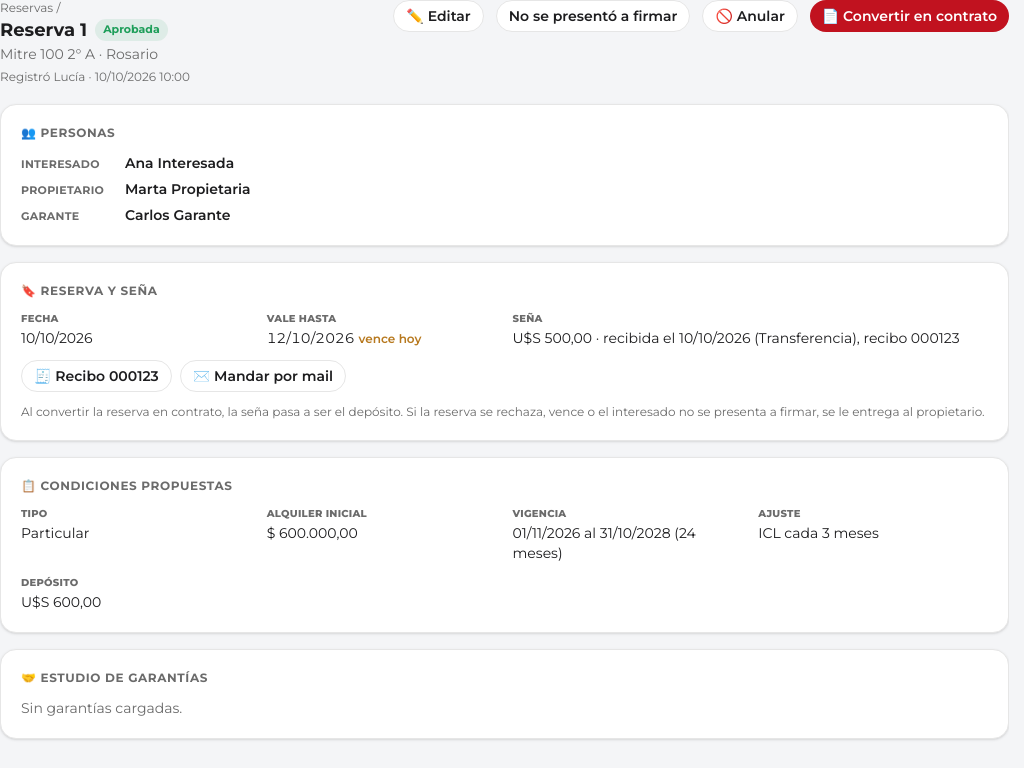
Scenario: La seña en la ficha (reglas 169 a 172) › regla 171: «No se presentó a firmar» avisa que la seña va al propietario
What coordinates should you click on to do the following:
click the button "No se presentó a firmar"
I would click on:
 (593, 16)
Its box is left=496, top=0, right=690, bottom=32.
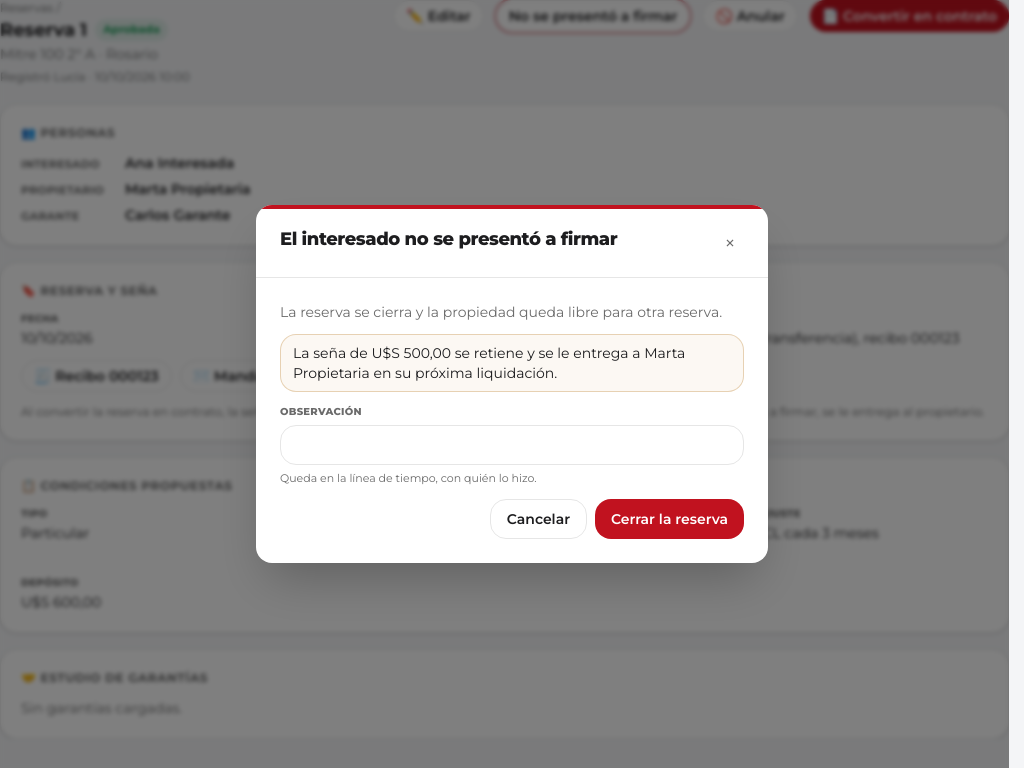
Now the dialog shows "La seña de U$S 500,00 se retiene y se le entrega a Marta Propietaria en su próxima liquidación."
